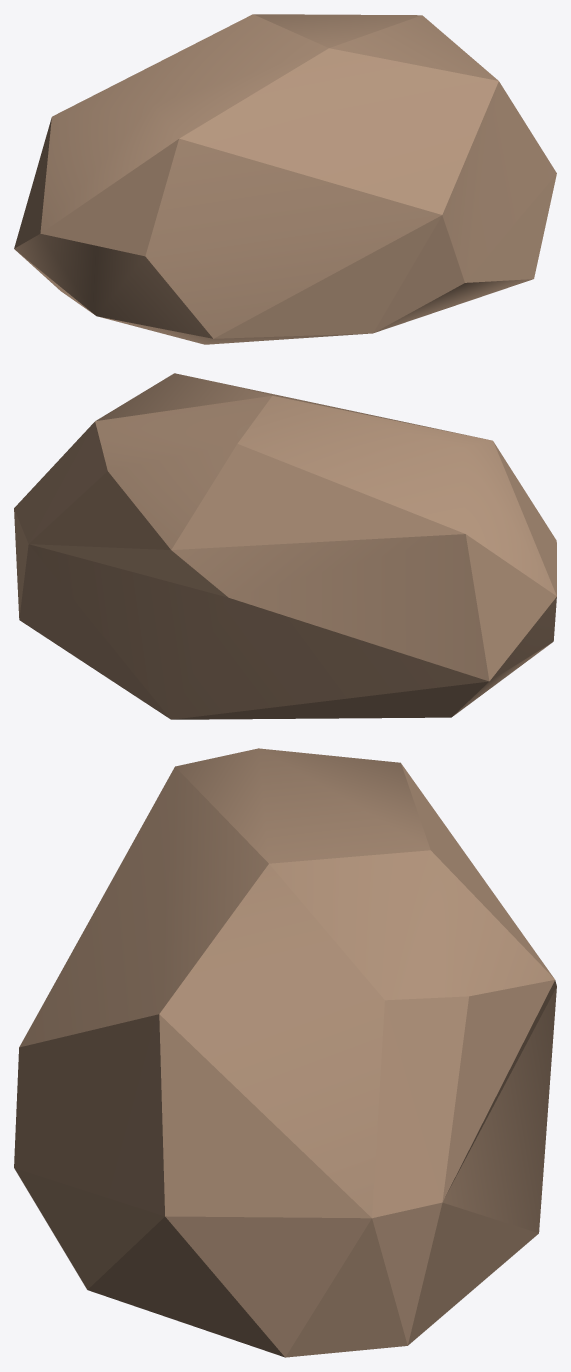
File: a_z2_rock_s.fbx
3 views of the same model, one above another, from view 1: azimuth 30°, elevation 25°; view 2: azimuth 150°, elevation 25°; view 3: azimuth 270°, elevation 25° (orthographic). The views are drawn at different scales.
Parts seen in each view (by area): view 1: a_z2_rock_s; view 2: a_z2_rock_s; view 3: a_z2_rock_s.
Part boxes in pixels (<box>): a_z2_rock_s: <box>14,14,556,344</box>; a_z2_rock_s: <box>14,373,556,719</box>; a_z2_rock_s: <box>14,748,556,1357</box>.
Bounding box in the file's own units: 161 × 80.4 × 102.
